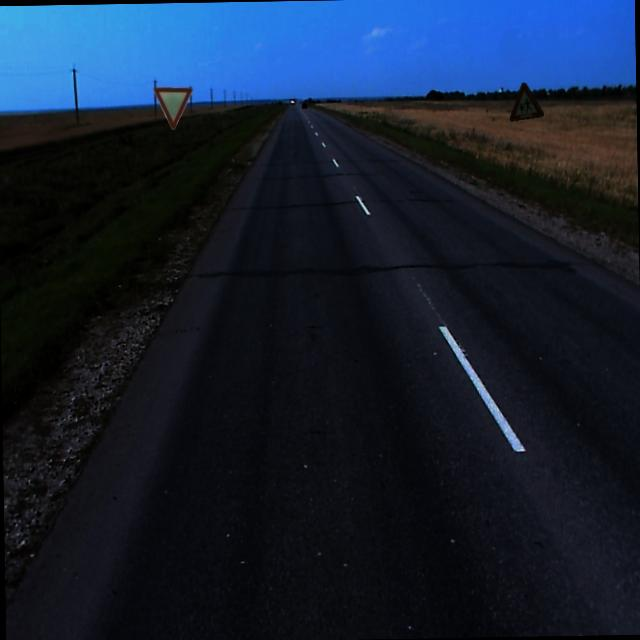road: (5, 103, 640, 640)
